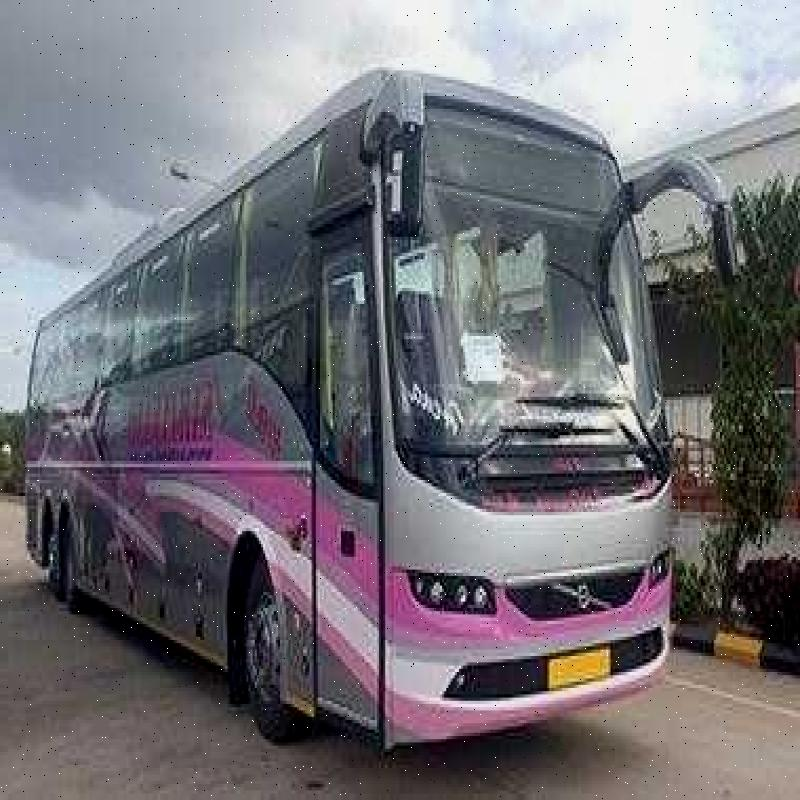bus: (17, 50, 738, 773)
